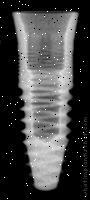NucleOSS: (10, 12, 79, 192)
